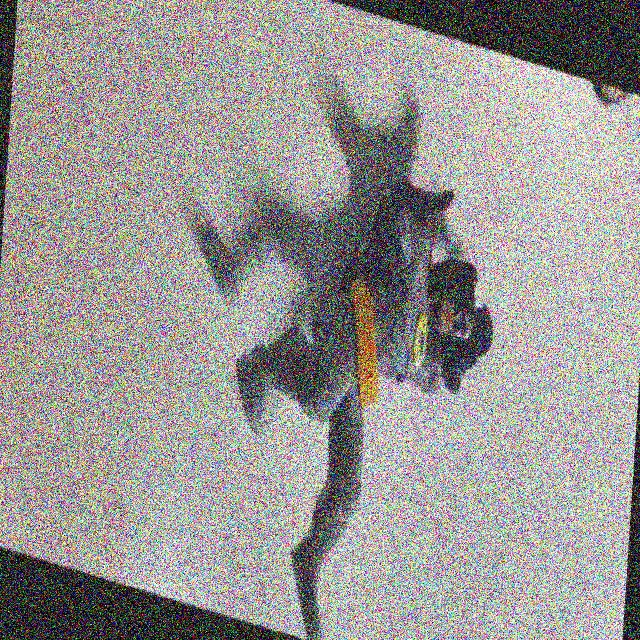Batman: (222, 80, 510, 640)
